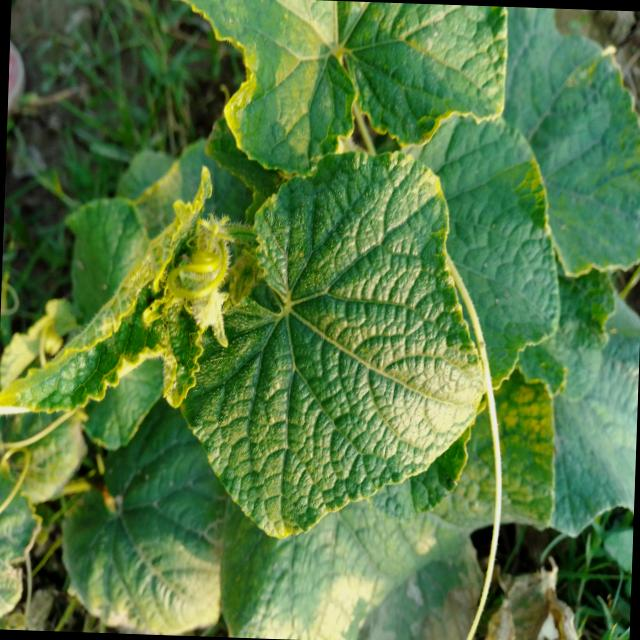cucumber_healthy: (172, 135, 492, 550), (161, 0, 516, 192), (48, 419, 234, 637), (527, 8, 640, 280), (548, 292, 640, 543)
